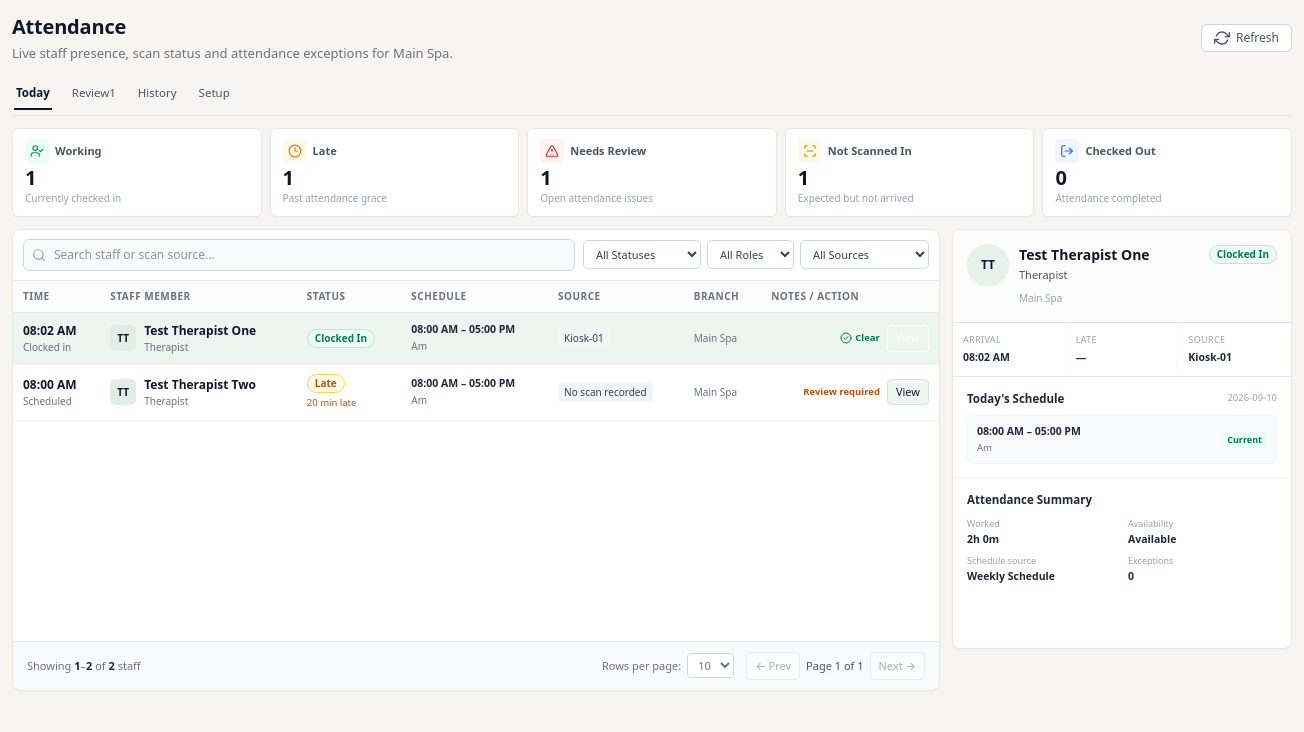
Attendance Today workspace › renders only the three Desktop-authorized Attendance rules in Setup
The width and height of the screenshot is (1304, 732).
Click the tab with test id "attendance-tab-setup".
click(214, 94)  # box [197,78,232,110]
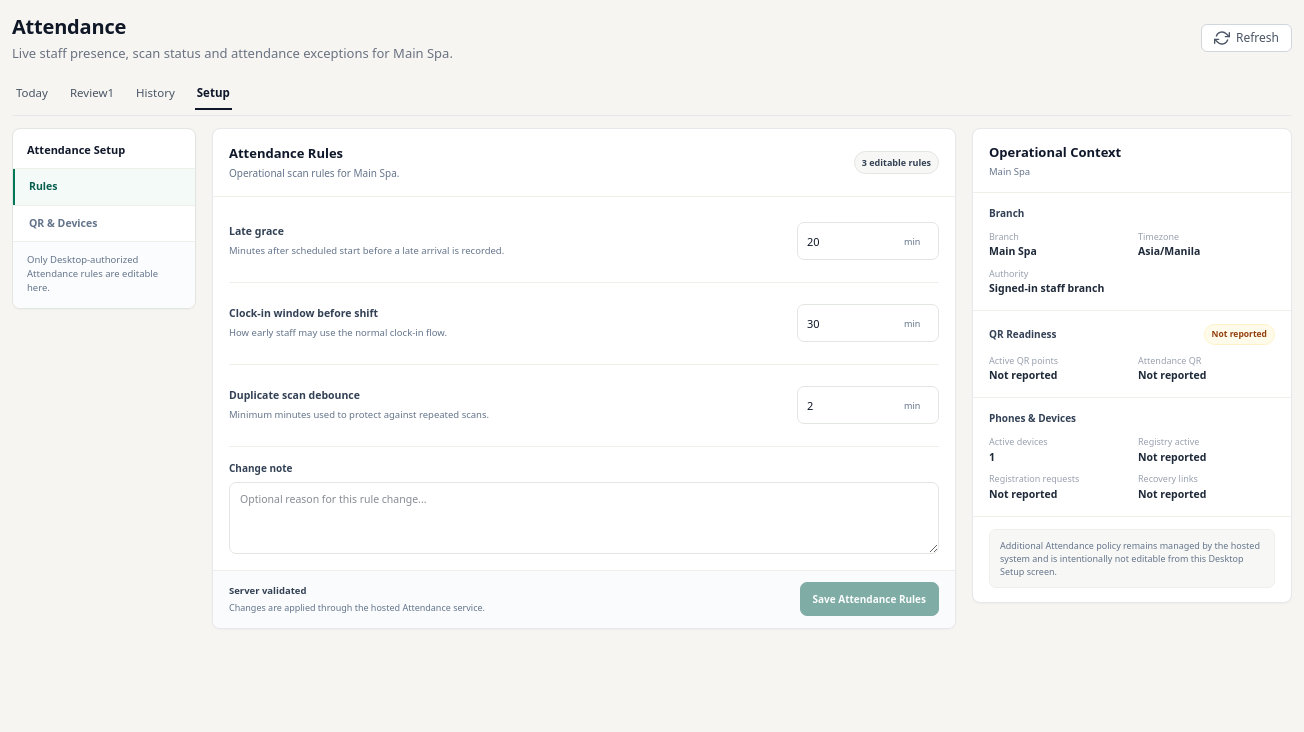
Expected: the number field labelled "Late grace Minutes" is shown, [798,223,904,259]
Expected: the number field named "Clock-in window before shift minutes" is shown, [798,305,904,341]
Expected: the number field named "Duplicate scan debounce minutes" is shown, [798,387,904,423]
